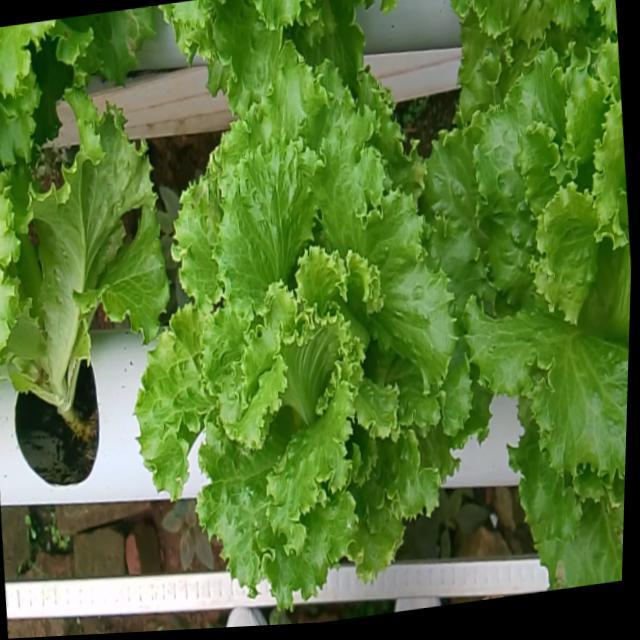Mature: (135, 64, 472, 607), (425, 52, 631, 487)
